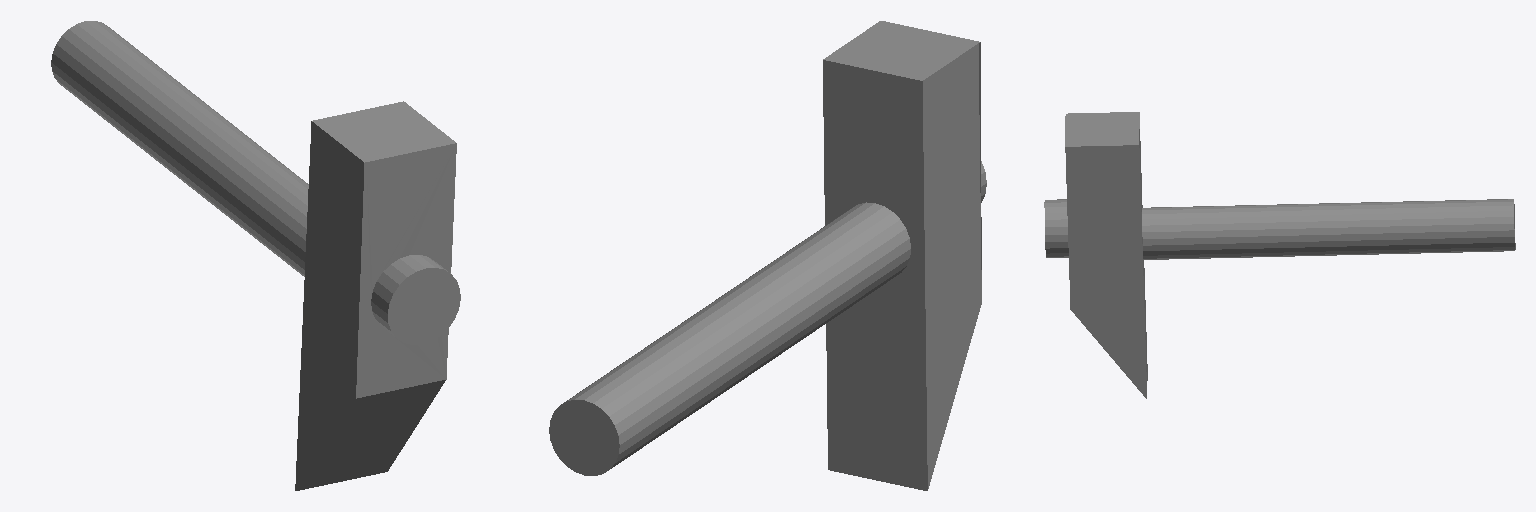
robot.urdf — cube.urdf:
<?xml version="0.0" ?> 
<robot name="cube.urdf"> 
<link name="legobrick"> 
<contact> 
<lateral_friction value="1.0"/>
<rolling_friction value="0.0"/>
<contact_cfm value="0.0"/>
<contact_erp value="1.0"/>
</contact> 
<inertial> 
<origin rpy="0 0 0" xyz="0.0 0.0 0.0"/> 
<mass value="0.1"/> 
<inertia ixx="1" ixy="0" ixz="0" iyy="1" iyz="0" izz="1"/> 
</inertial> 
<visual> 
<origin rpy="1.570796 0 0" xyz="-8.427232142857136e-05 0.015642669642857144 -0.004924937500000002"/> 
<geometry> 
<mesh filename="405f308492a6f40d2c3380317c2cc450_1.obj" scale="1 1 1"/> 
</geometry> 
<material name="yellow"> 
<color rgba="0.6 0.6 0.6 1"/> 
</material> 
</visual> 
<collision> 
<origin rpy="1.570796 0 0" xyz="-8.427232142857136e-05 0.015642669642857144 -0.004924937500000002"/> 
<geometry> 
<mesh filename="405f308492a6f40d2c3380317c2cc450_1_col.obj" scale="1 1 1"/> 
</geometry> 
</collision> 
</link> 
</robot>

--- Facts derived from the render (not from the file) ---
3 views of the same robot in one strip: view 1: azimuth 30°, elevation 25°; view 2: azimuth 150°, elevation 25°; view 3: azimuth 270°, elevation 25° (orthographic).
Robot: cube.urdf — 1 links, 0 joints (none); root link legobrick; default pose: every joint at zero.
Links seen in each view (by area): view 1: legobrick; view 2: legobrick; view 3: legobrick.
Link boxes in pixels (x1,y1,x2,y2): legobrick: (51, 21, 460, 490); legobrick: (549, 21, 986, 490); legobrick: (1044, 112, 1515, 398).
Size in the robot's own frame: 0.0129 by 0.0737 by 0.045 metres.
1 mesh visuals loaded from 1 distinct referenced files (1 OBJ).